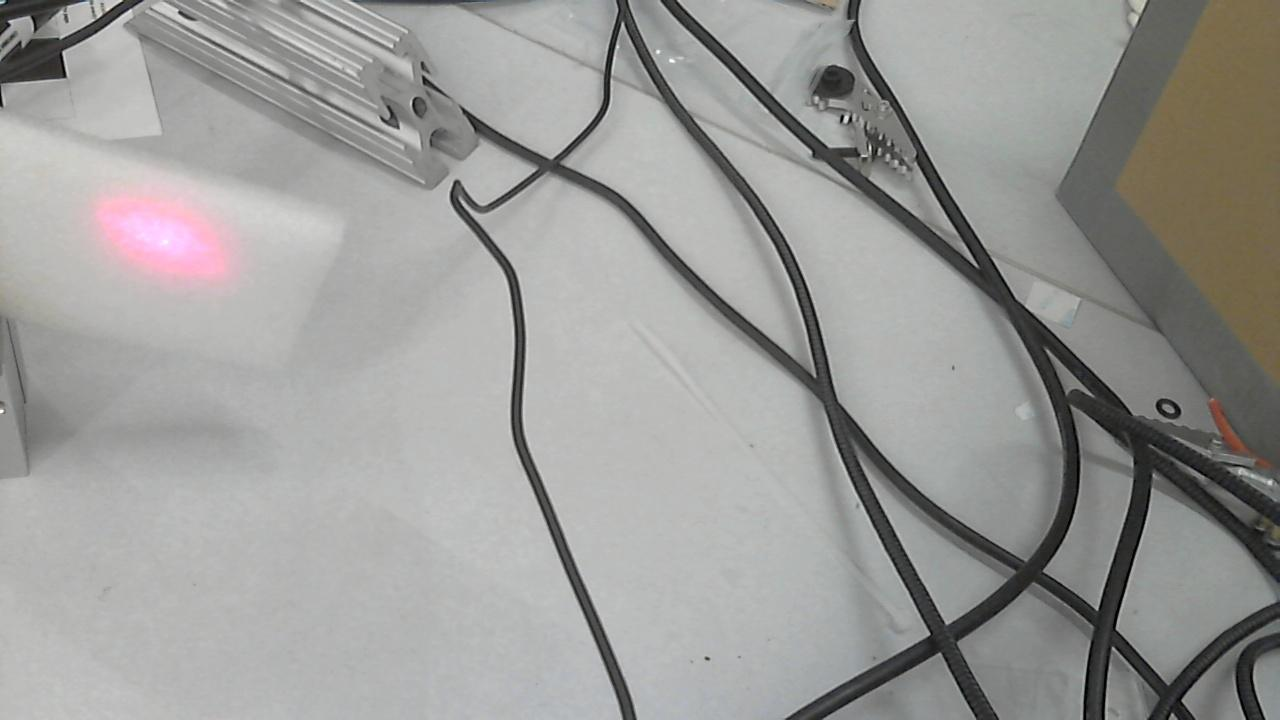Object white rectangular foam block - Material Foam - Color white - Pdfname LpbA: (75, 199, 240, 294)
